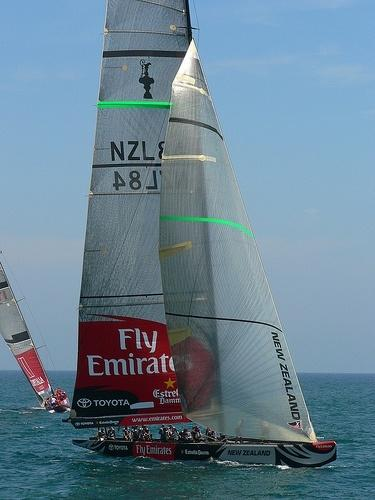Ship: (64, 1, 342, 468), (2, 265, 71, 415)
